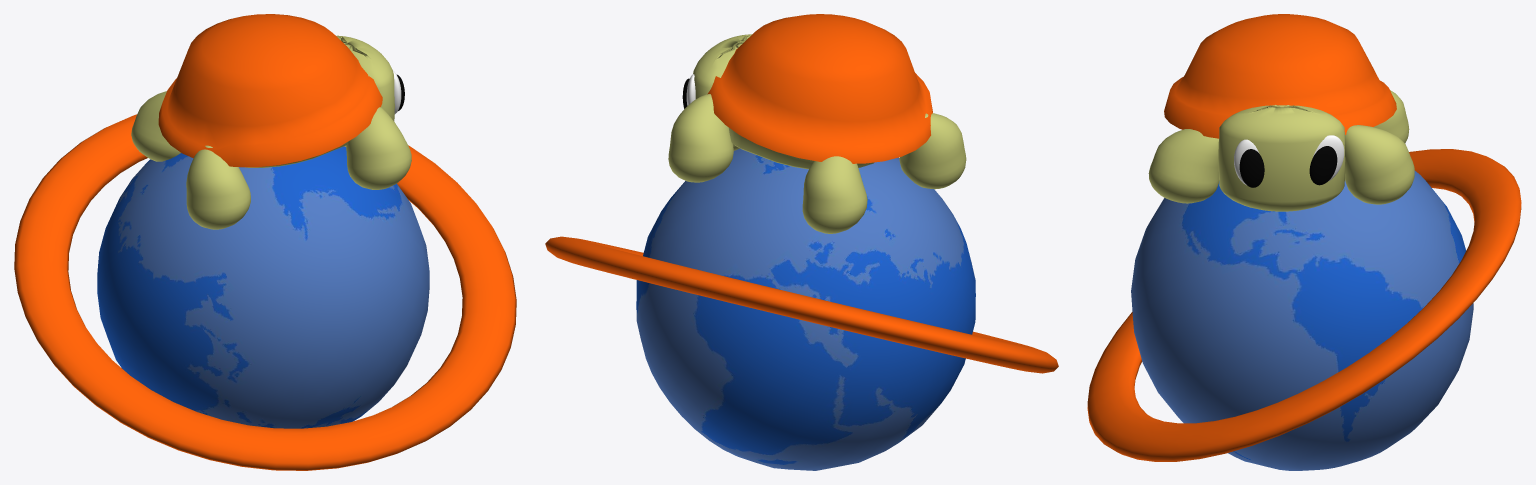
File: cargando.glb
3 views of the same model, side by side, from view 1: azimuth 30°, elevation 25°; view 2: azimuth 150°, elevation 25°; view 3: azimuth 270°, elevation 25° (orthographic). The views are drawn at different scales.
Visible parts, largest first — view 1: Esfera, Toroide, Esfera.002, Esfera.005, Esfera.009, Esfera.006, Esfera.001; view 2: Esfera, Esfera.002, Toroide, Esfera.003, Esfera.006, Esfera.005, Esfera.001, Esfera.004; view 3: Esfera, Toroide, Esfera.002, Esfera.001, Esfera.003, Esfera.009, Esfera.007, Esfera.008, Esfera.006.
Part boxes in pixels (x1,y1,x2,y2): Esfera: (97, 146, 429, 428); Toroide: (14, 114, 516, 470); Esfera.002: (158, 14, 382, 167); Esfera.005: (186, 145, 250, 229); Esfera.009: (346, 107, 411, 189); Esfera.006: (131, 91, 180, 161); Esfera.001: (336, 35, 394, 146); Esfera: (636, 148, 975, 470); Esfera.002: (707, 14, 932, 163); Toroide: (545, 236, 1058, 373); Esfera.003: (668, 94, 733, 182); Esfera.006: (802, 156, 867, 233); Esfera.005: (899, 113, 966, 189); Esfera.001: (693, 34, 751, 150); Esfera.004: (728, 127, 874, 169); Esfera: (1131, 170, 1473, 470); Toroide: (1087, 149, 1521, 461); Esfera.002: (1164, 14, 1396, 138); Esfera.001: (1218, 105, 1345, 211); Esfera.003: (1344, 125, 1414, 204); Esfera.009: (1148, 129, 1219, 203); Esfera.007: (1239, 146, 1337, 187); Esfera.008: (1234, 135, 1344, 185); Esfera.006: (1373, 90, 1409, 143).
Size of the model in its own units: 3.16 by 2.72 by 2.52.
Materials: 11 (1 with a texture image).
